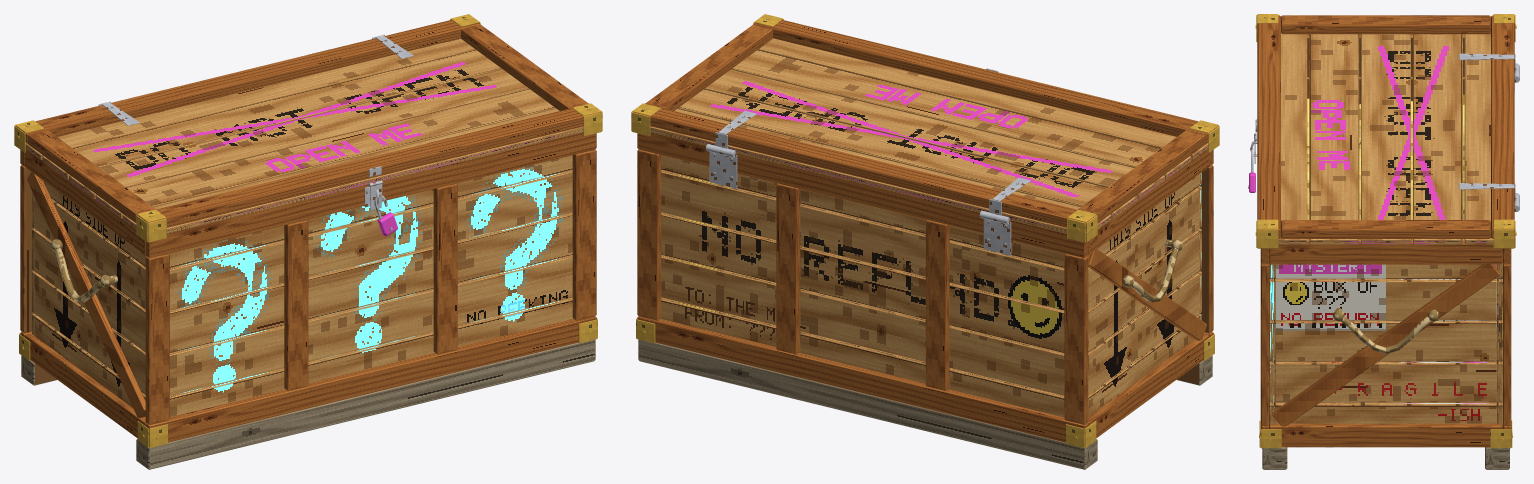
The model's file is p_zmcrate.glb.
3 renders of one model, left to right at view 1: azimuth 30°, elevation 25°; view 2: azimuth 150°, elevation 25°; view 3: azimuth 270°, elevation 25°, orthographic. The views are drawn at different scales.
Visible parts, largest first — view 1: body, lid; view 2: body, lid; view 3: lid, body.
Boxes of the visible parts, bbox=[...] form: body: bbox=[19, 132, 597, 469]; lid: bbox=[14, 14, 602, 242]; body: bbox=[636, 132, 1214, 469]; lid: bbox=[631, 14, 1219, 242]; lid: bbox=[1254, 14, 1519, 248]; body: bbox=[1248, 34, 1512, 469].
Bounding box in the file's own units: 1.89 × 0.969 × 0.977.
8 materials, 8 textured.
